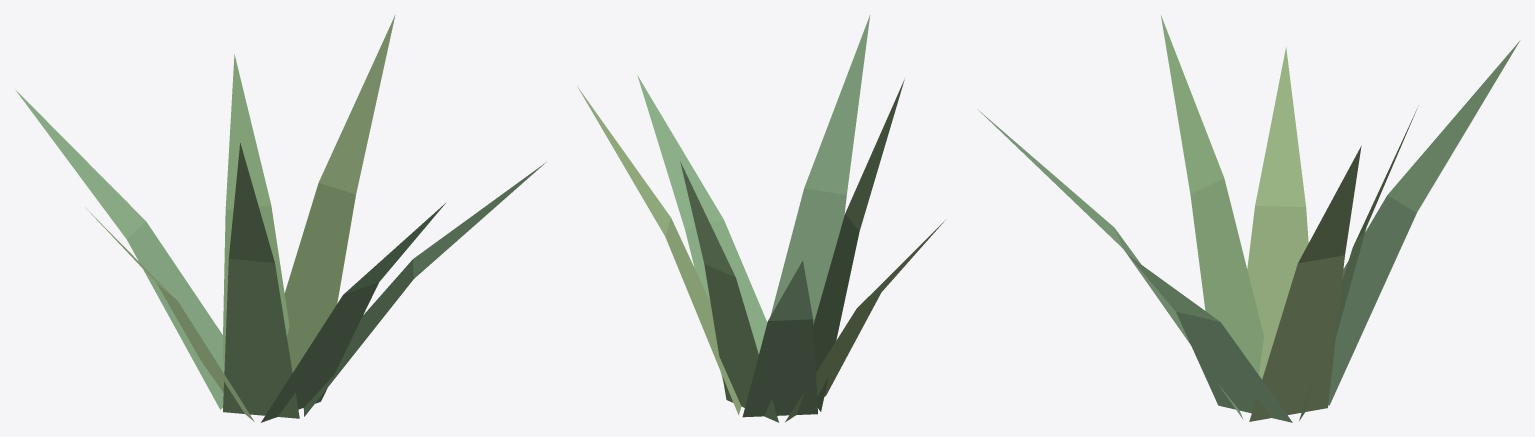
File: tuft_2.gltf
The picture shows the model from 3 angles, left to right: view 1: azimuth 30°, elevation 25°; view 2: azimuth 150°, elevation 25°; view 3: azimuth 270°, elevation 25°; orthographic projection. The views are drawn at different scales.
Visible parts, largest first — view 1: tuft_2; view 2: tuft_2; view 3: tuft_2.
Part boxes in pixels (bbox=[...]): tuft_2: bbox=[15, 15, 546, 422]; tuft_2: bbox=[577, 15, 945, 422]; tuft_2: bbox=[977, 15, 1520, 422].
Bounding box in the file's own units: 0.5201 × 0.4 × 0.5759.
